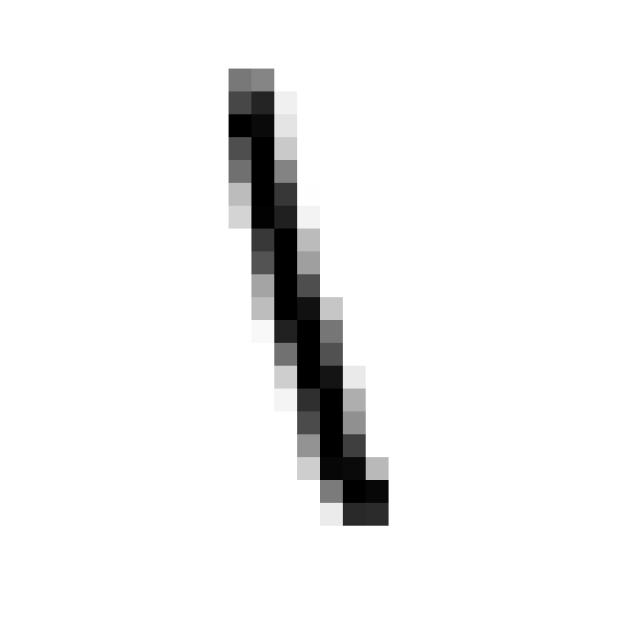1 -one-: (199, 48, 411, 553)
